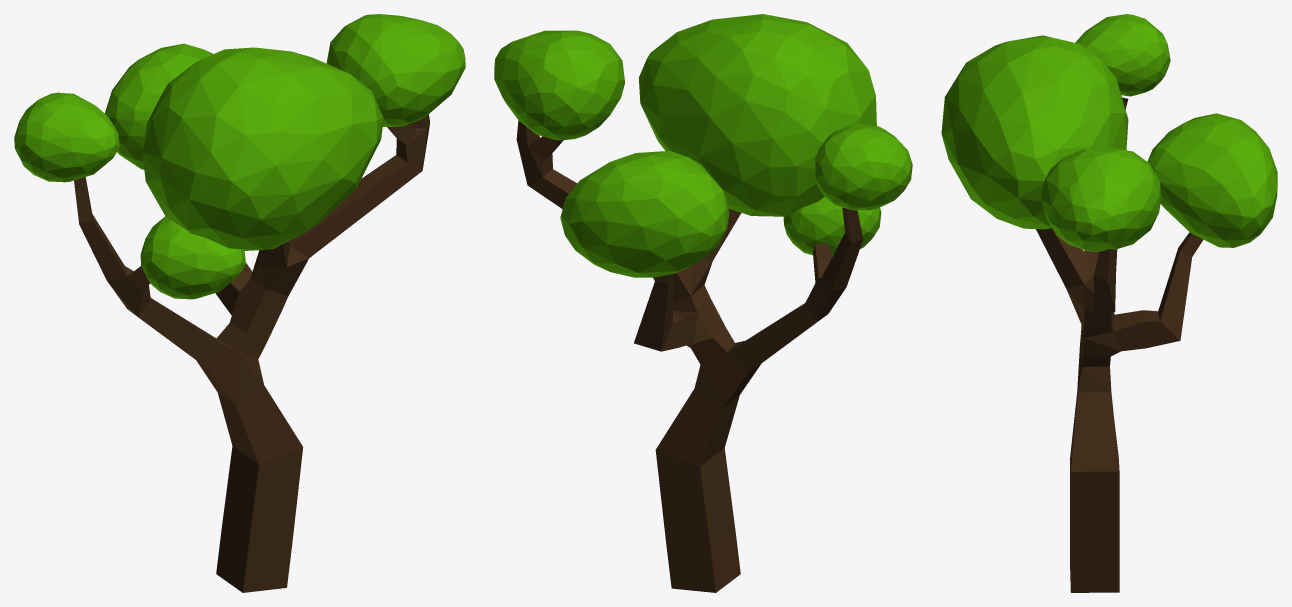
File: drevo.gltf
The picture shows the model from 3 angles, left to right: view 1: azimuth 30°, elevation 25°; view 2: azimuth 150°, elevation 25°; view 3: azimuth 270°, elevation 25°; orthographic projection. The views are drawn at different scales.
Parts seen in each view (by area): view 1: Blob tree.001; view 2: Blob tree.001; view 3: Blob tree.001.
Boxes of the visible parts, x1,y1,x2,y2 form: Blob tree.001: (14,14,465,592); Blob tree.001: (494,14,912,592); Blob tree.001: (941,14,1277,592).
Bounding box in the file's own units: 4 × 4.95 × 2.89.
2 materials, 2 textured.
